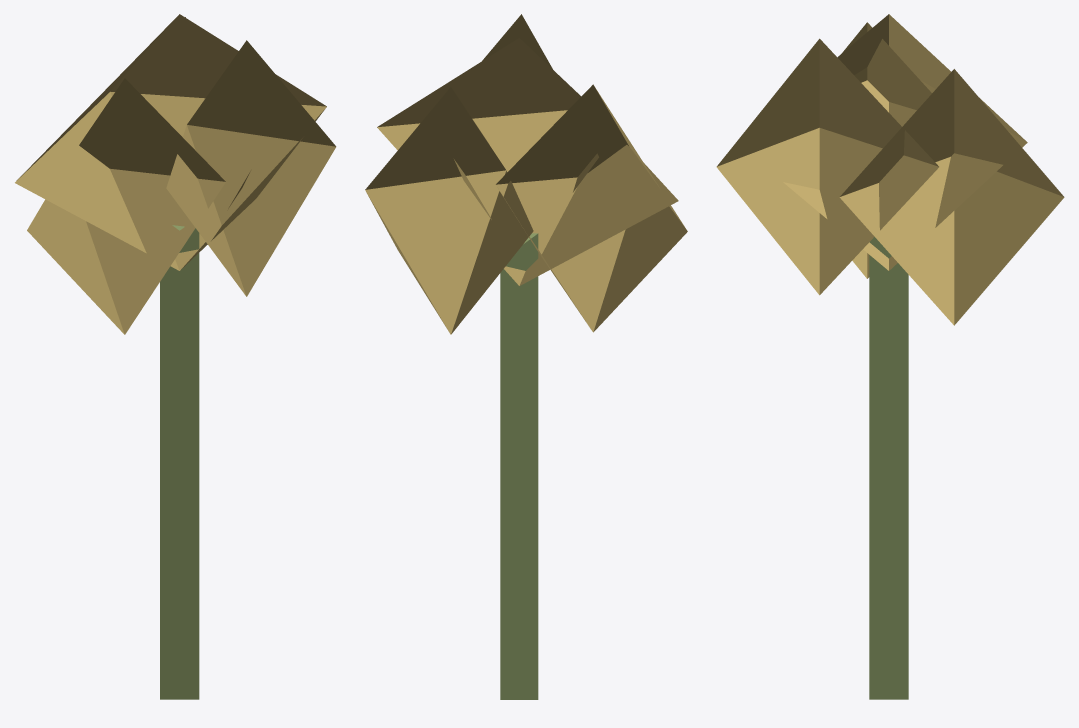
Rendered from tree.sub.bamboo_grove__autumn.glb.
The picture shows the model from 3 angles, left to right: view 1: azimuth 30°, elevation 25°; view 2: azimuth 150°, elevation 25°; view 3: azimuth 270°, elevation 25°; orthographic projection. The views are drawn at different scales.
Visible parts, largest first — view 1: tree.sub.bamboo_grove__autumn; view 2: tree.sub.bamboo_grove__autumn; view 3: tree.sub.bamboo_grove__autumn.
Boxes of the visible parts, x1,y1,x2,y2 form: tree.sub.bamboo_grove__autumn: (15, 14, 336, 699); tree.sub.bamboo_grove__autumn: (365, 14, 687, 699); tree.sub.bamboo_grove__autumn: (716, 14, 1064, 699).
Bounding box in the file's own units: 5.06 × 10.68 × 4.88.
